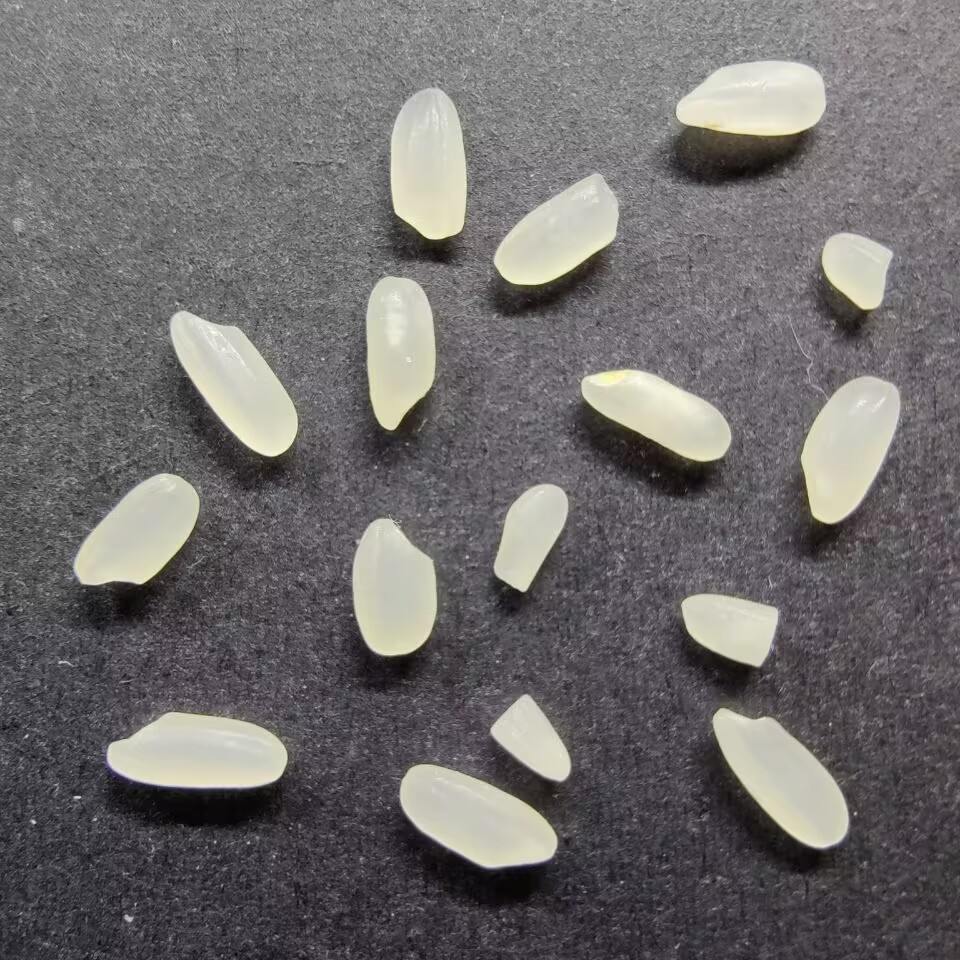broken: (490, 481, 569, 594), (487, 692, 572, 783), (678, 593, 782, 667), (819, 230, 895, 311)
rice: (709, 705, 852, 850), (167, 308, 301, 457), (397, 762, 559, 870), (799, 375, 902, 526), (72, 472, 201, 589), (493, 172, 622, 286), (578, 369, 732, 463), (104, 712, 287, 790), (350, 515, 439, 657), (387, 87, 469, 241), (672, 59, 825, 137), (363, 273, 438, 432)
